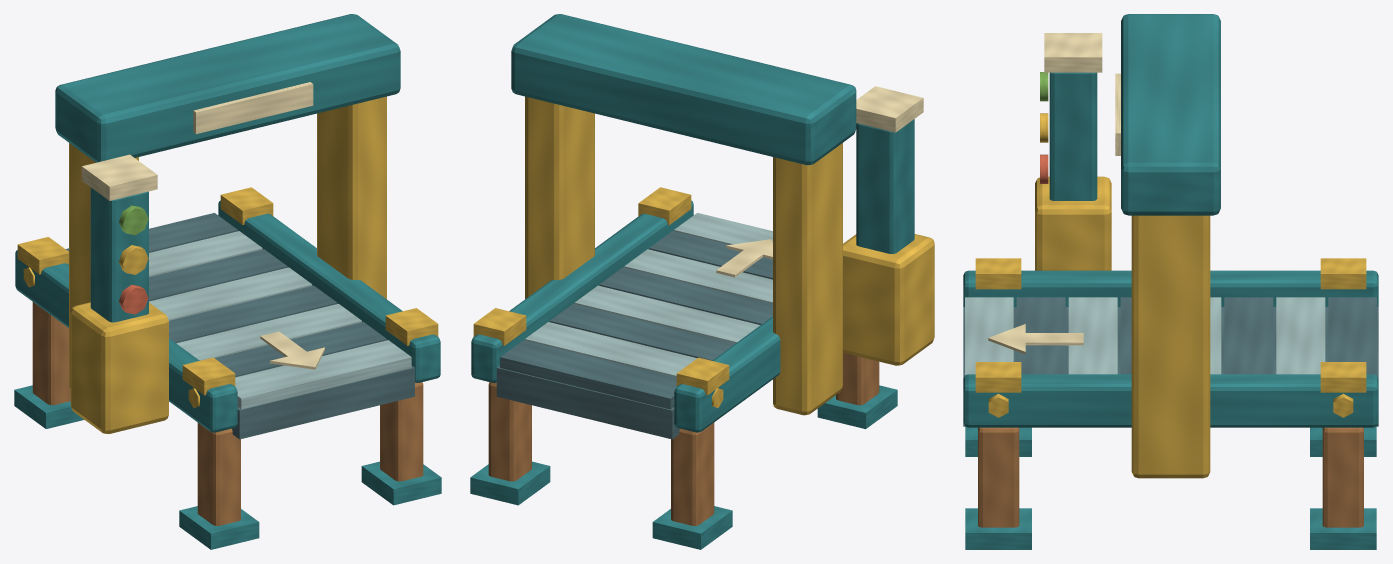
Rendered from industry-sorter.glb.
3 renders of one model, left to right at view 1: azimuth 30°, elevation 25°; view 2: azimuth 150°, elevation 25°; view 3: azimuth 270°, elevation 25°, orthographic. The views are drawn at different scales.
Parts seen in each view (by area): view 1: industry-sorter-mesh; view 2: industry-sorter-mesh; view 3: industry-sorter-mesh.
Part boxes in pixels (box(x1,y1,x2,y2)): industry-sorter-mesh: box(14, 14, 441, 549); industry-sorter-mesh: box(470, 14, 934, 549); industry-sorter-mesh: box(963, 14, 1378, 549).
Bounding box in the file's own units: 1.98 × 2.14 × 2.
1 material, 1 textured.
